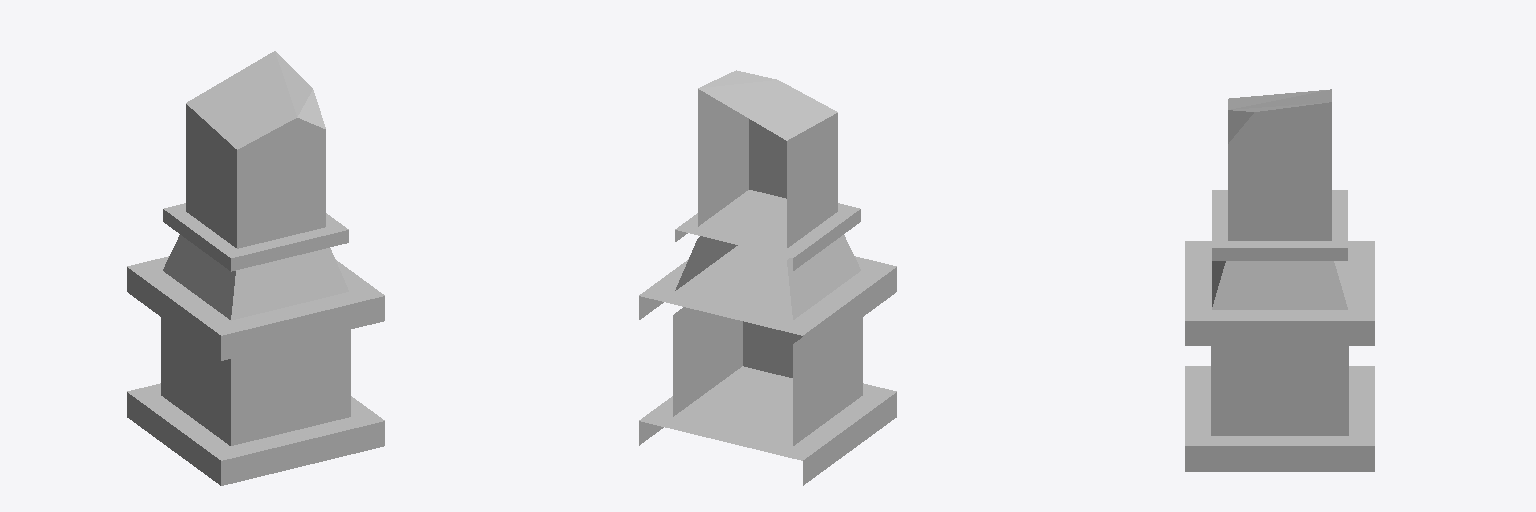
File: Column_02.obj
The picture shows the model from 3 angles: view 1: azimuth 30°, elevation 25°; view 2: azimuth 150°, elevation 25°; view 3: azimuth 270°, elevation 25°; orthographic projection.
Visible parts, largest first — view 1: column_02_Cube.010; view 2: column_02_Cube.010; view 3: column_02_Cube.010.
Part boxes in pixels (x1,y1,x2,y2): column_02_Cube.010: (127, 51, 384, 485); column_02_Cube.010: (639, 70, 896, 485); column_02_Cube.010: (1185, 89, 1374, 471).
Size of the model in its own units: 0.4201 by 0.8588 by 0.4201.